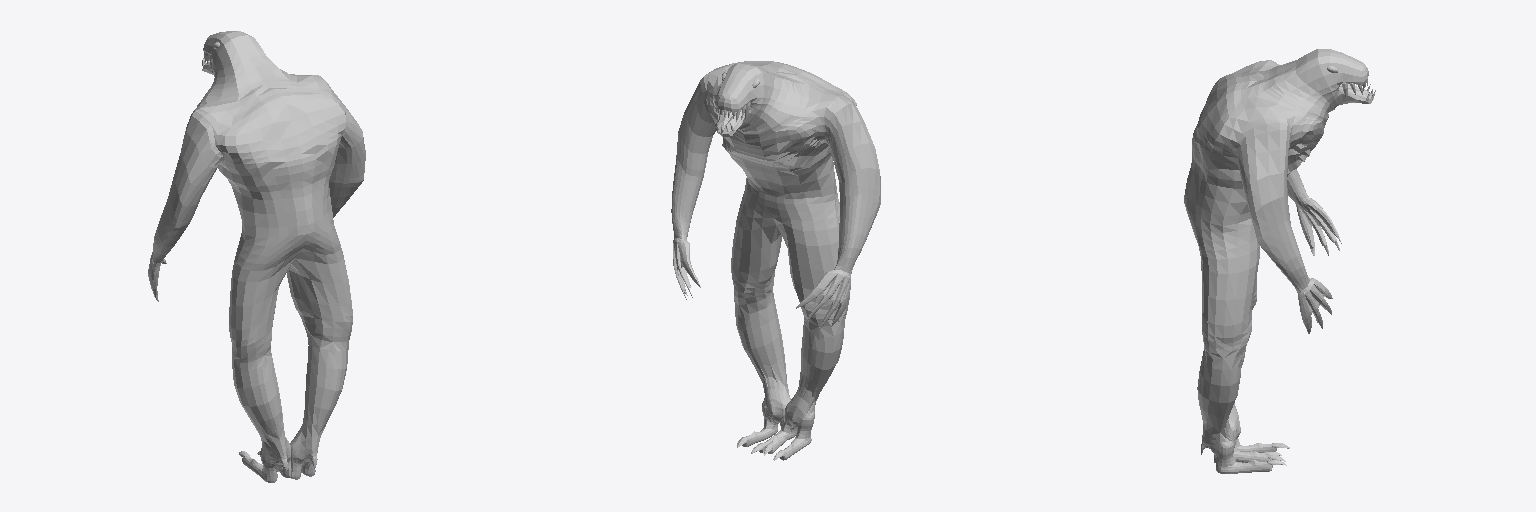
The model's file is Berserkerandar.0004.obj.
3 views of the same model, side by side, from view 1: azimuth 30°, elevation 25°; view 2: azimuth 150°, elevation 25°; view 3: azimuth 270°, elevation 25° (orthographic).
Visible parts, largest first — view 1: polySurface27; view 2: polySurface27; view 3: polySurface27.
Part boxes in pixels (x1,y1,x2,y2): polySurface27: (148,31,365,482); polySurface27: (671,61,880,460); polySurface27: (1184,49,1375,473).
Size of the model in its own units: 11.76 by 23.63 by 10.04.